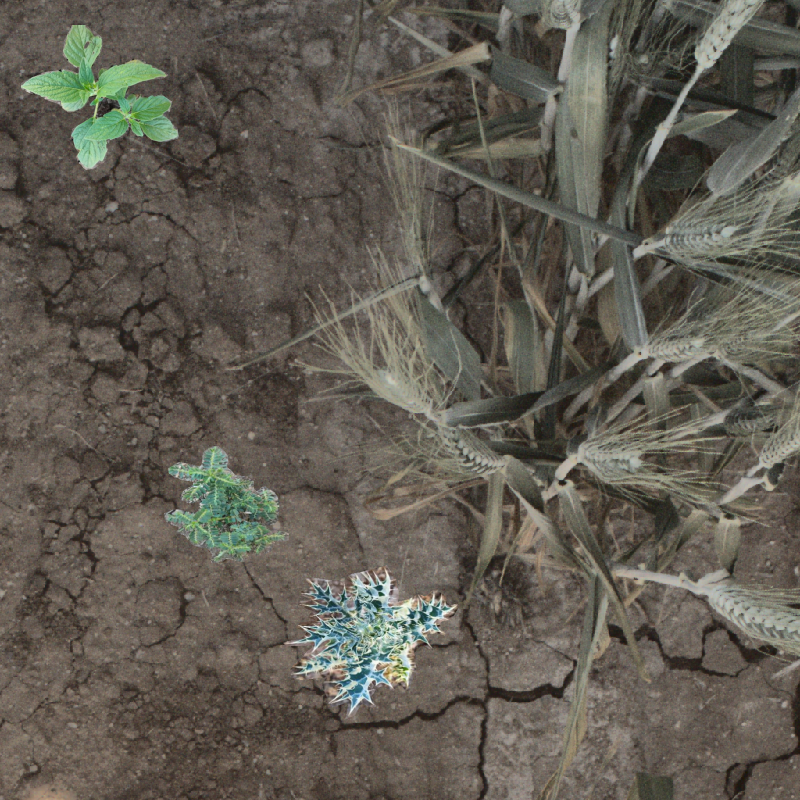spikelet: (696, 569, 799, 659), (689, 1, 782, 74), (654, 212, 743, 262), (566, 432, 650, 483), (443, 423, 508, 477), (752, 411, 800, 473), (633, 329, 713, 363), (540, 1, 587, 33)
weed: (283, 565, 459, 719), (21, 25, 179, 170), (164, 446, 289, 563)
